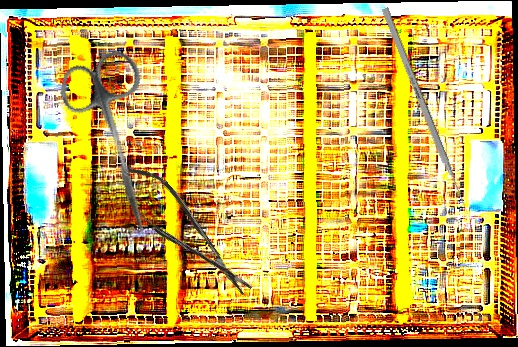Iris Scissors: (52, 46, 186, 247)
Micro Scissor: (110, 154, 260, 310)
Pusher: (380, 7, 473, 219)
